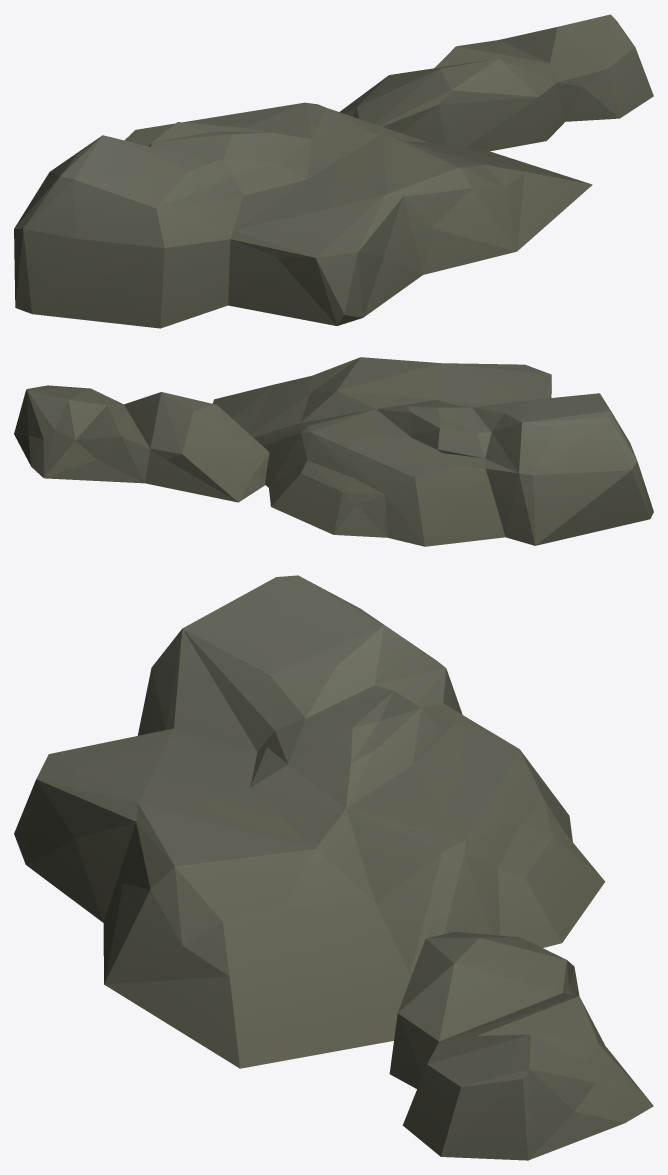
Rendered from ZLP_Rock_E_13.FBX.
3 views of the same model, one above another, from view 1: azimuth 30°, elevation 25°; view 2: azimuth 150°, elevation 25°; view 3: azimuth 270°, elevation 25° (orthographic). The views are drawn at different scales.
Parts seen in each view (by area): view 1: ZLP_Rock_E_13; view 2: ZLP_Rock_E_13; view 3: ZLP_Rock_E_13.
Boxes of the visible parts, bbox=[...] form: ZLP_Rock_E_13: bbox=[14, 14, 653, 328]; ZLP_Rock_E_13: bbox=[14, 357, 653, 546]; ZLP_Rock_E_13: bbox=[14, 575, 653, 1160].
Size of the model in its own units: 241 by 39.05 by 142.
